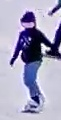snowboarder: (5, 10, 55, 113)
